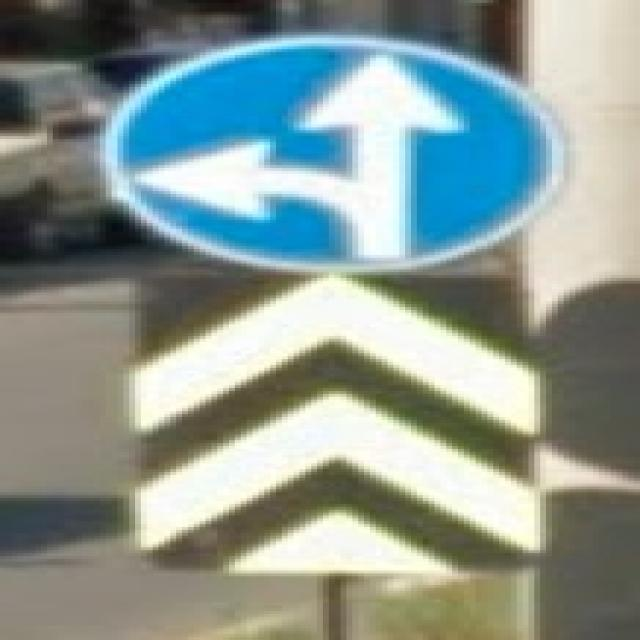Straight or Left: (101, 40, 565, 272)
